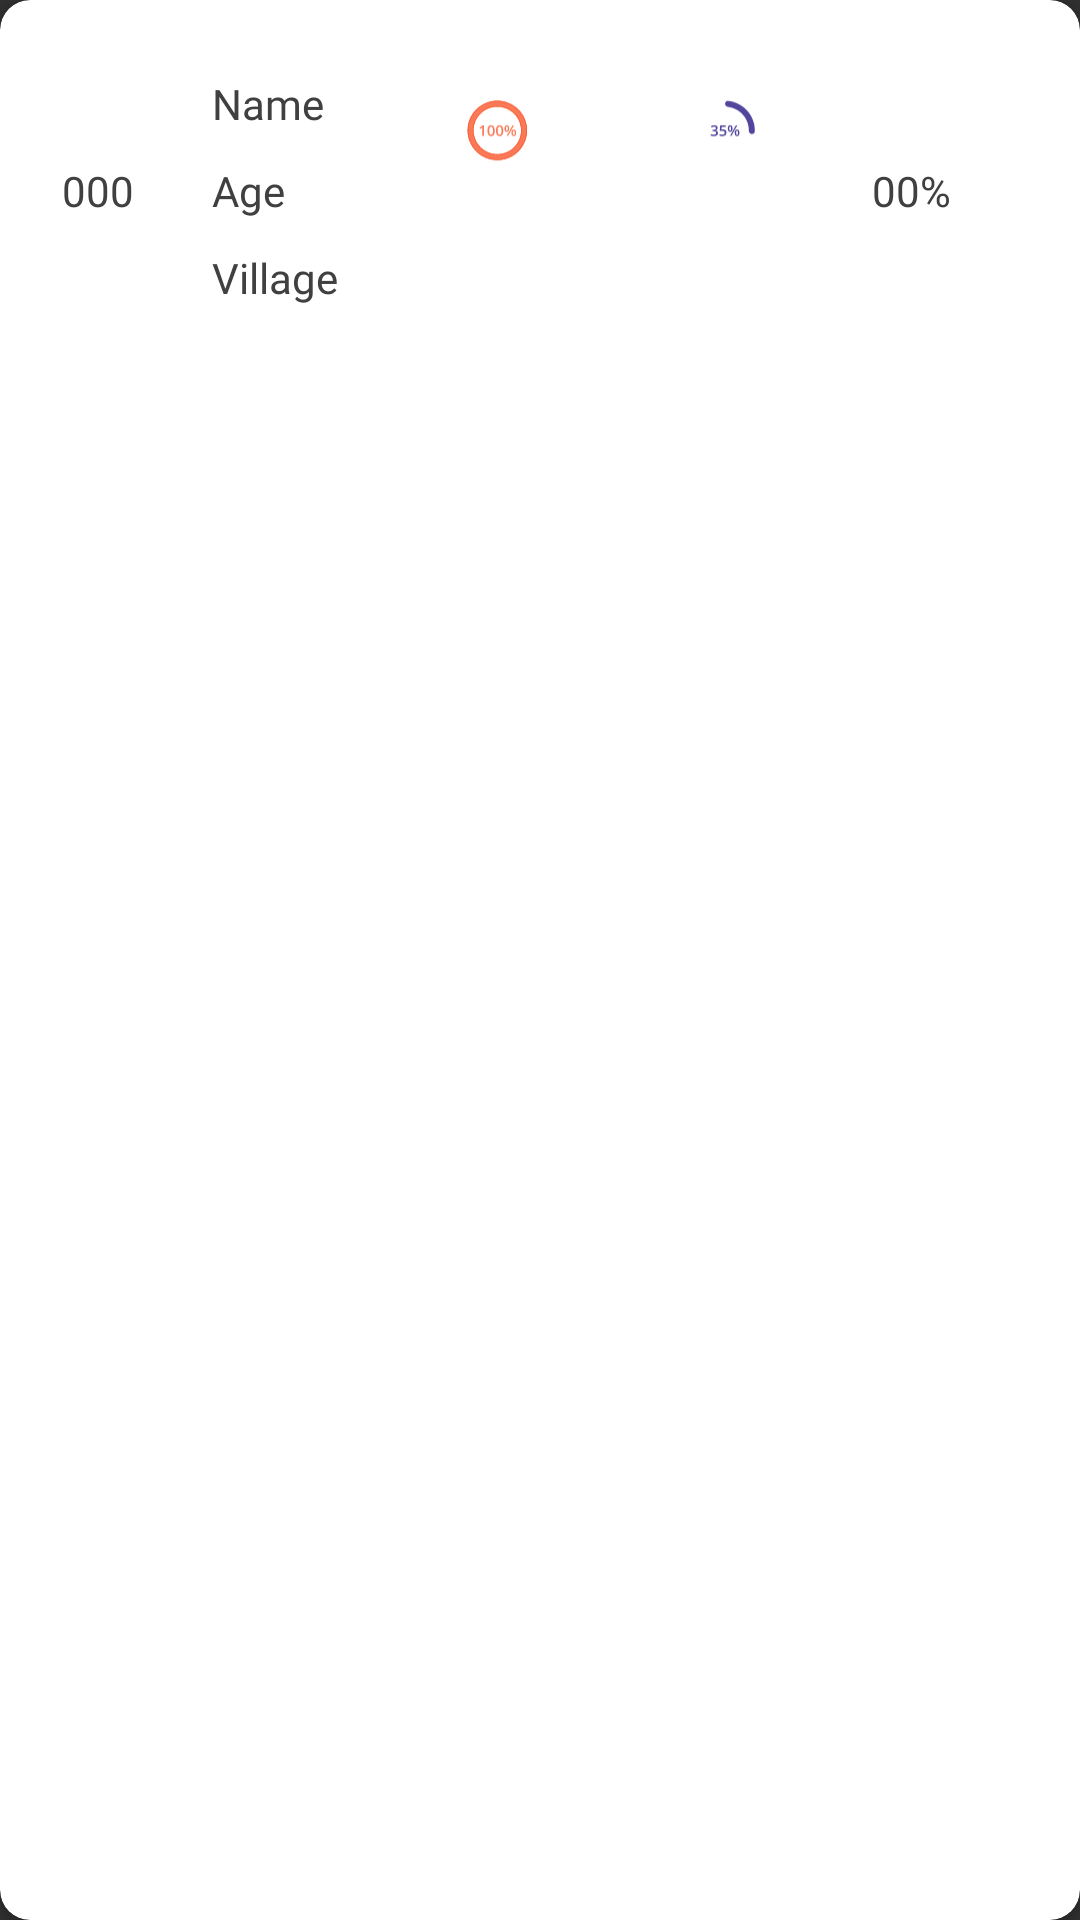

Screen size 1080 x 1920. Icon name, then its center in pixels as point (x, y):
enrolment status: point (497, 130)
survey status: point (732, 118)
